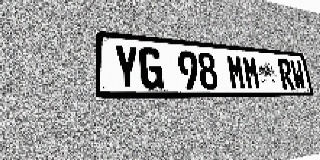8: (197, 52, 219, 89)
9: (177, 50, 200, 89)
G: (139, 47, 164, 89)
M: (226, 54, 247, 89), (242, 55, 262, 89)
R: (277, 59, 295, 89)
W: (289, 60, 307, 89)
Y: (113, 44, 140, 89)
